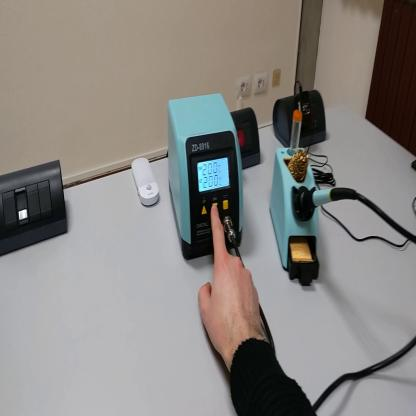hand: (198, 205, 266, 366)
socket: (273, 86, 330, 155), (228, 105, 263, 168)
welder base: (273, 109, 324, 290)
welder probe tip: (301, 185, 357, 214)
welder station: (167, 94, 243, 260)
